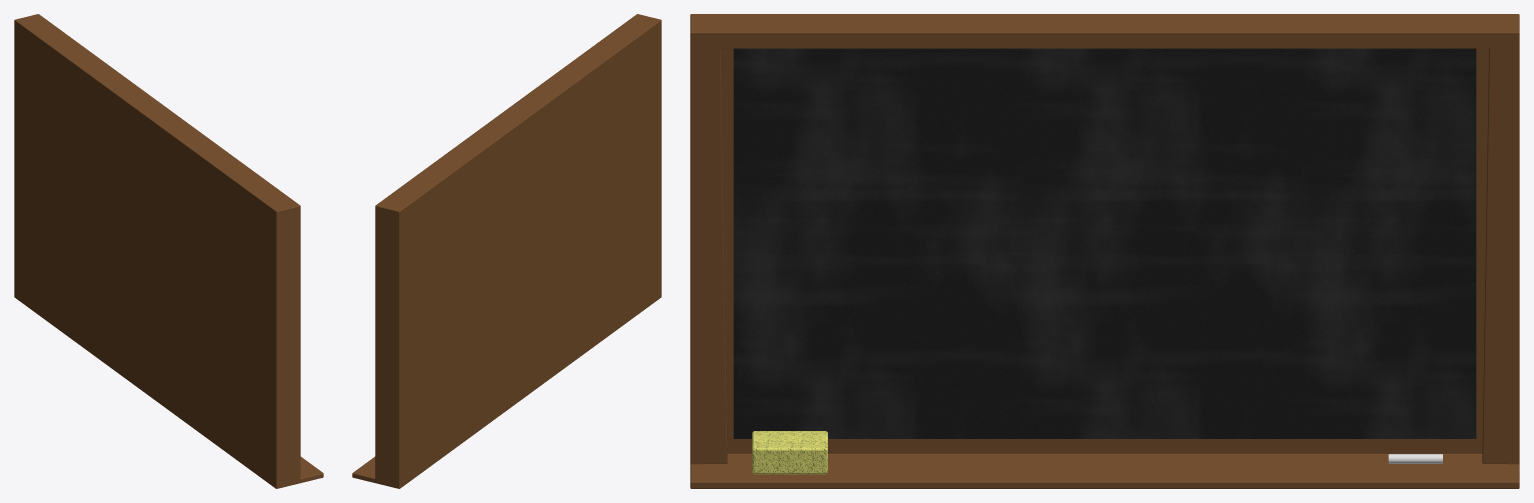
File: blackboard.fbx
The picture shows the model from 3 angles, left to right: view 1: azimuth 30°, elevation 25°; view 2: azimuth 150°, elevation 25°; view 3: azimuth 270°, elevation 25°; orthographic projection. The views are drawn at different scales.
Parts seen in each view (by area): view 1: Plane; view 2: Plane; view 3: Plane, Cube.
Part boxes in pixels (left/top/right/bottom): Plane: left=14, top=14, right=323, bottom=488; Plane: left=352, top=14, right=661, bottom=488; Plane: left=690, top=14, right=1519, bottom=488; Cube: left=752, top=431, right=827, bottom=474.
Bounding box in the file's own units: 40.08 × 223 × 382.
Materials: 4 (2 with a texture image).
